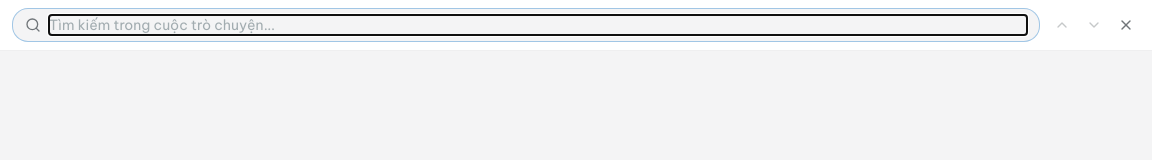
InChatSearchBar Component Tests › navigates results with prev and next buttons
The width and height of the screenshot is (1152, 160).
Type "buổi sáng" into the field with test id "in-chat-search-input" at (538, 25), box [49, 15, 1027, 35]
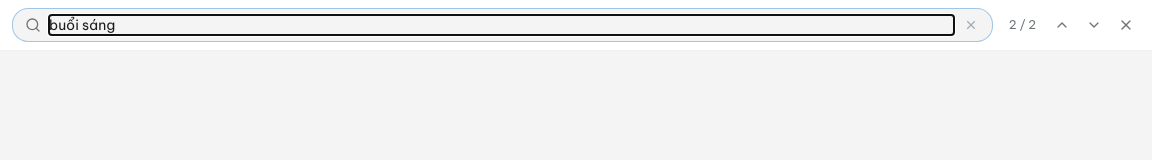
Now the element with test id "in-chat-search-counter" reads "2 / 2", box [1009, 17, 1036, 32]
# Bấm Prev: chuyển từ index 1 về index 0
Click the button with test id "in-chat-search-prev" at (1062, 25), box [1048, 11, 1076, 39]
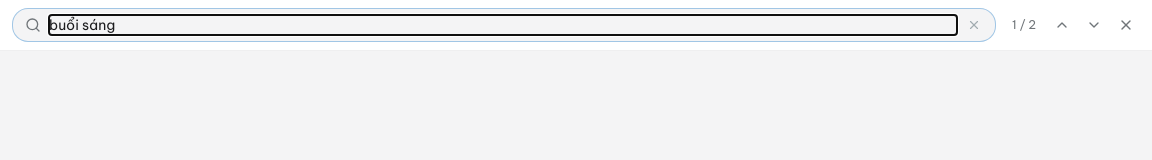
Now the element with test id "in-chat-search-counter" reads "1 / 2", box [1012, 17, 1036, 32]
# Bấm Next: chuyển từ index 0 sang index 1
Click the button with test id "in-chat-search-next" at (1094, 25), box [1080, 11, 1108, 39]
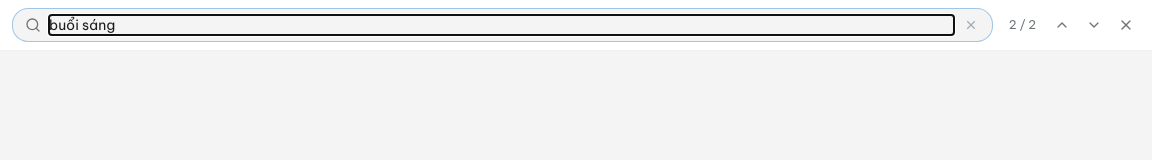
Now the element with test id "in-chat-search-counter" reads "2 / 2", box [1009, 17, 1036, 32]
